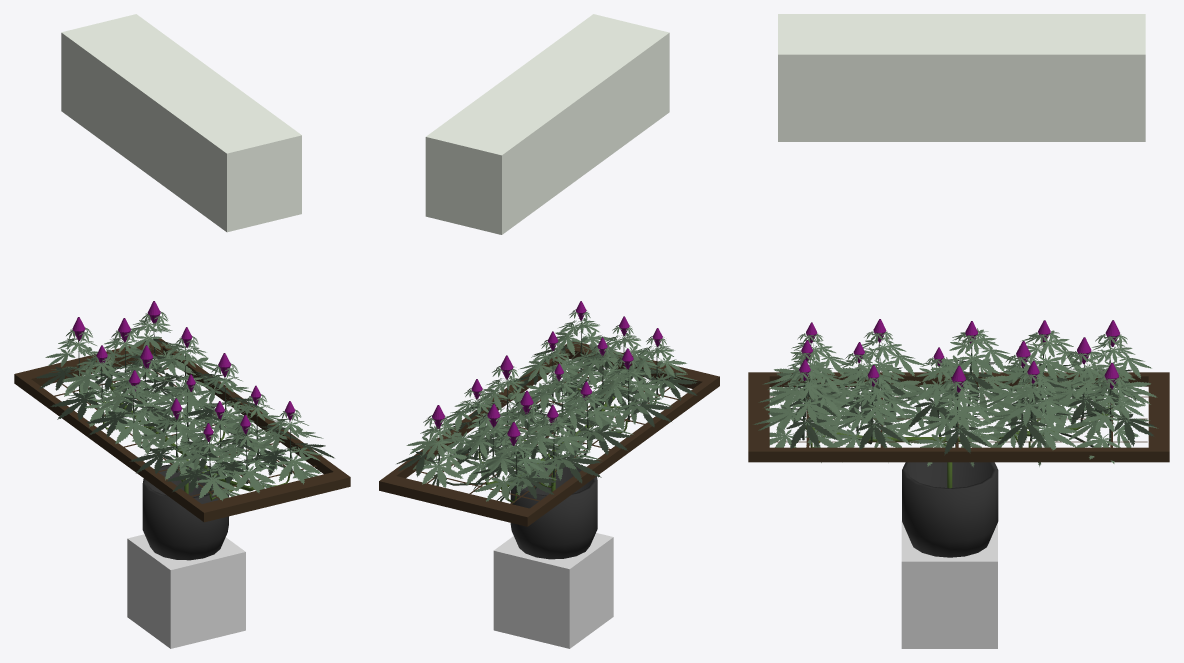
File: scrogwithlight.gltf
3 renders of one model, left to right at view 1: azimuth 30°, elevation 25°; view 2: azimuth 150°, elevation 25°; view 3: azimuth 270°, elevation 25°, orthographic. The views are drawn at different scales.
Parts seen in each view (by area): view 1: Cylinder.034, Cube.001, Cube; view 2: Cylinder.034, Cube.001, Cube; view 3: Cylinder.034, Cube.001, Cube.
Part boxes in pixels (box(x1,y1,x2,y2)): Cylinder.034: box(14, 301, 350, 560); Cube.001: box(61, 14, 301, 232); Cube: box(127, 534, 245, 648); Cylinder.034: box(379, 301, 719, 559); Cube.001: box(425, 14, 669, 234); Cube: box(493, 533, 613, 648); Cylinder.034: box(748, 319, 1169, 557); Cube.001: box(778, 14, 1145, 141); Cube: box(901, 521, 997, 648).
Bounding box in the file's own units: 4.54 × 13.62 × 8.74.
